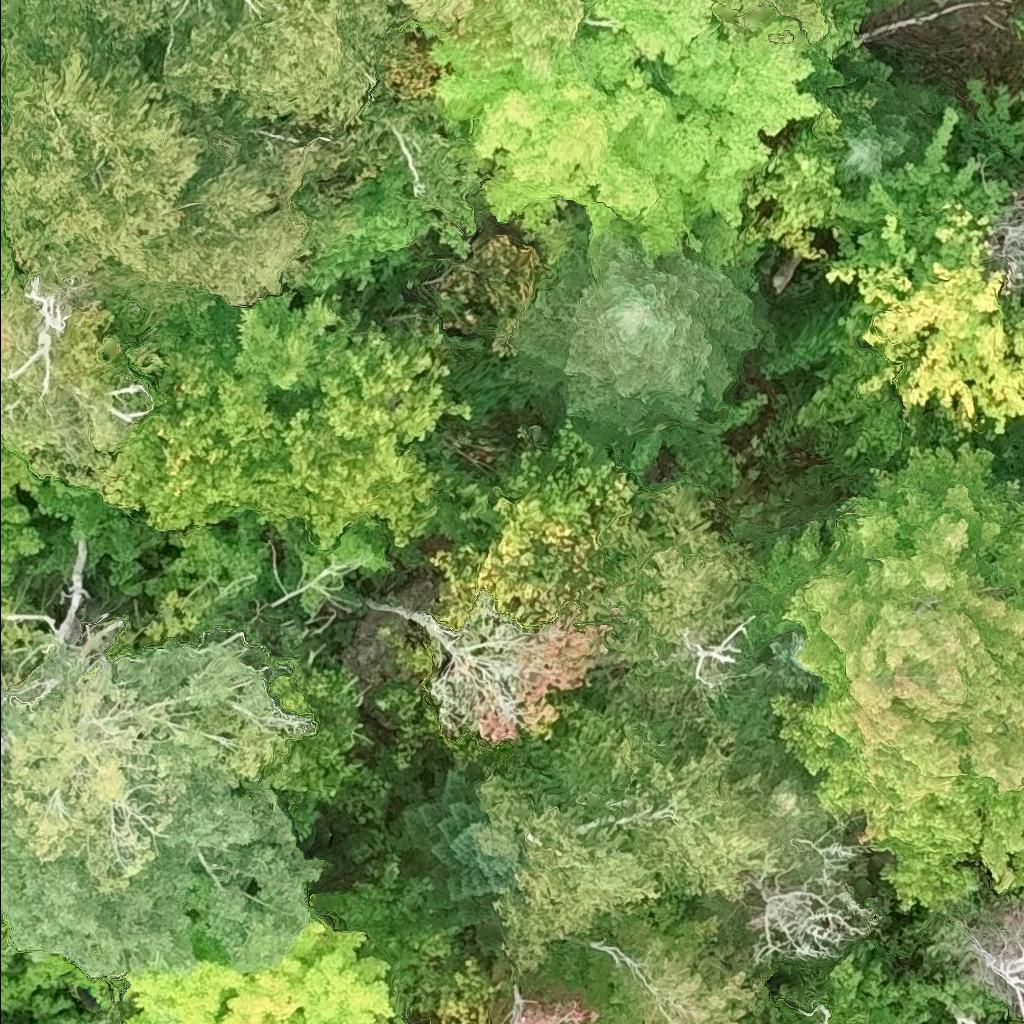crown: (731, 442, 1023, 911), (433, 0, 828, 274), (0, 35, 359, 334), (824, 103, 1023, 448), (502, 215, 762, 435), (22, 0, 392, 142), (531, 692, 779, 903), (282, 315, 476, 553), (430, 421, 651, 629), (119, 884, 408, 1023), (477, 765, 665, 978), (606, 485, 761, 726), (391, 756, 522, 957), (0, 283, 117, 479), (184, 283, 367, 391), (830, 82, 950, 198), (399, 0, 582, 68), (712, 0, 835, 51), (975, 917, 1023, 1023), (0, 496, 44, 599), (513, 989, 602, 1023), (0, 175, 16, 284), (1011, 16, 1023, 39)
